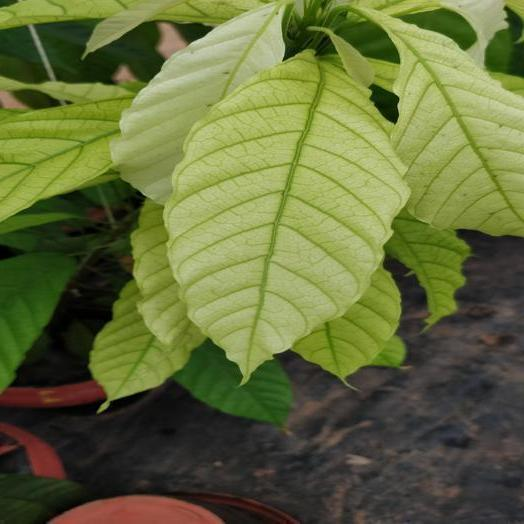Iron: (164, 51, 409, 380), (364, 8, 523, 234)
